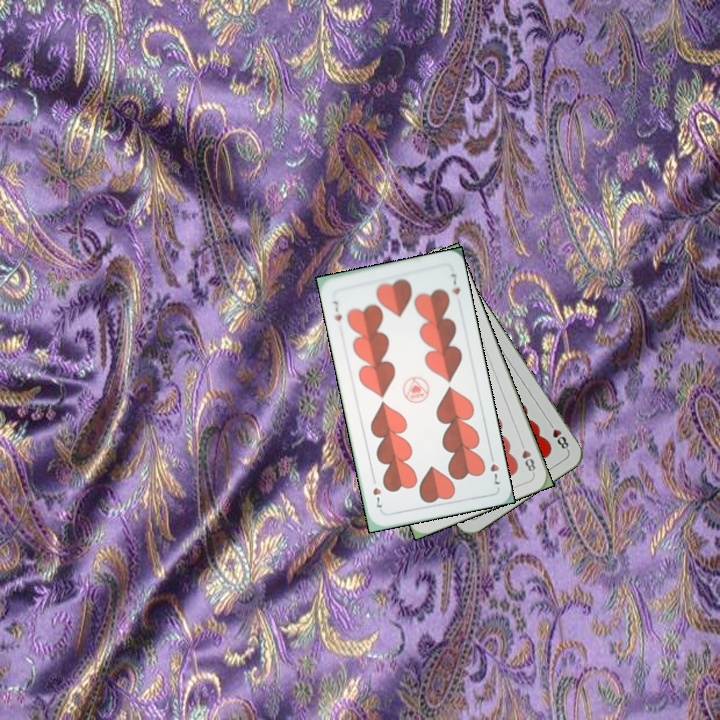H7: (485, 449, 503, 487), (329, 297, 344, 323)
H8: (544, 417, 571, 453), (516, 437, 538, 476)
